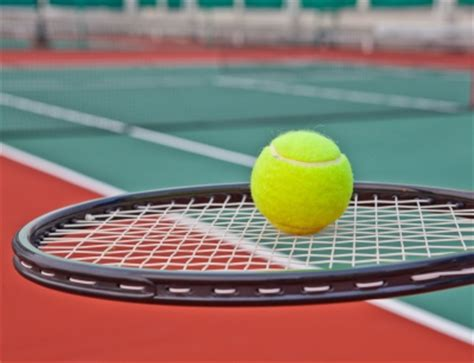tennis_ball: (249, 128, 354, 235)
